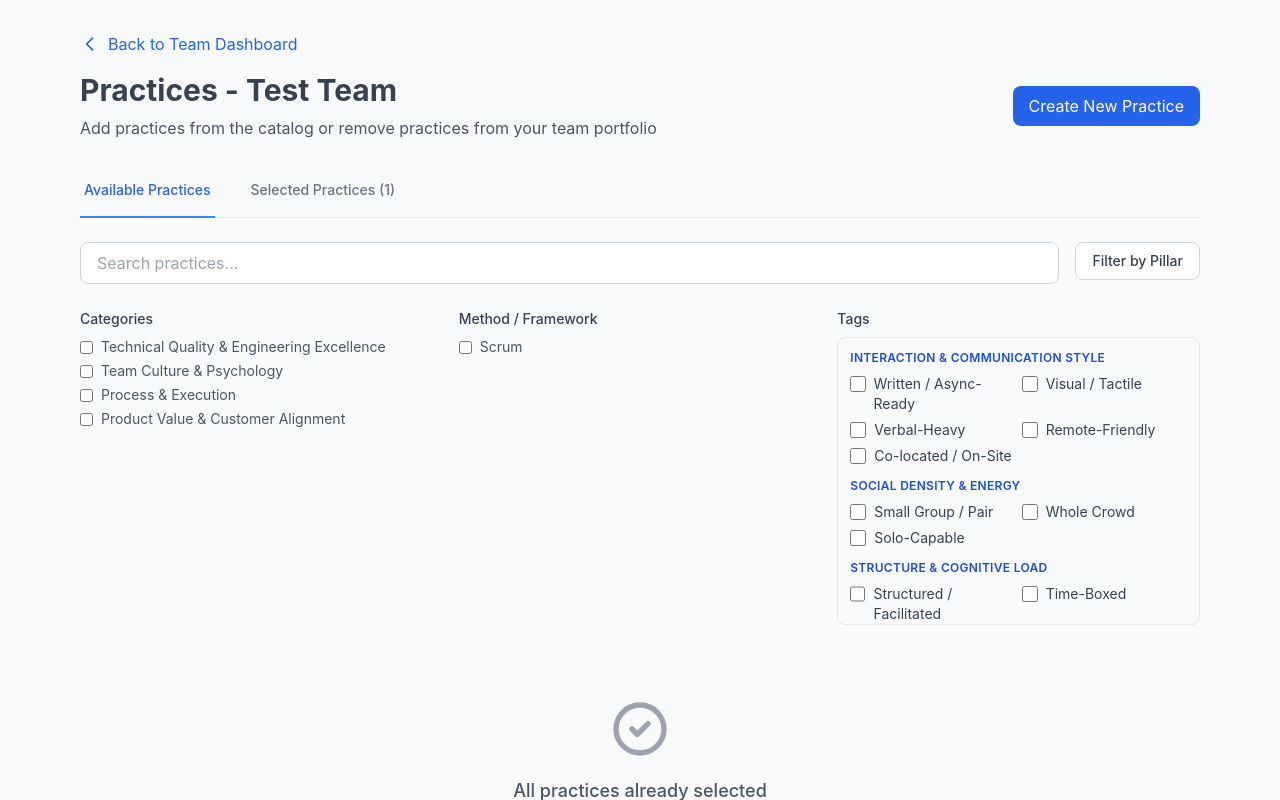
ManagePracticesView › confirms removal and shows gap suggestions
What coordinates should you click on to do the following:
click the button "Selected Practices (1)"
I would click on:
 (323, 191)
Its box is [246, 164, 399, 218].
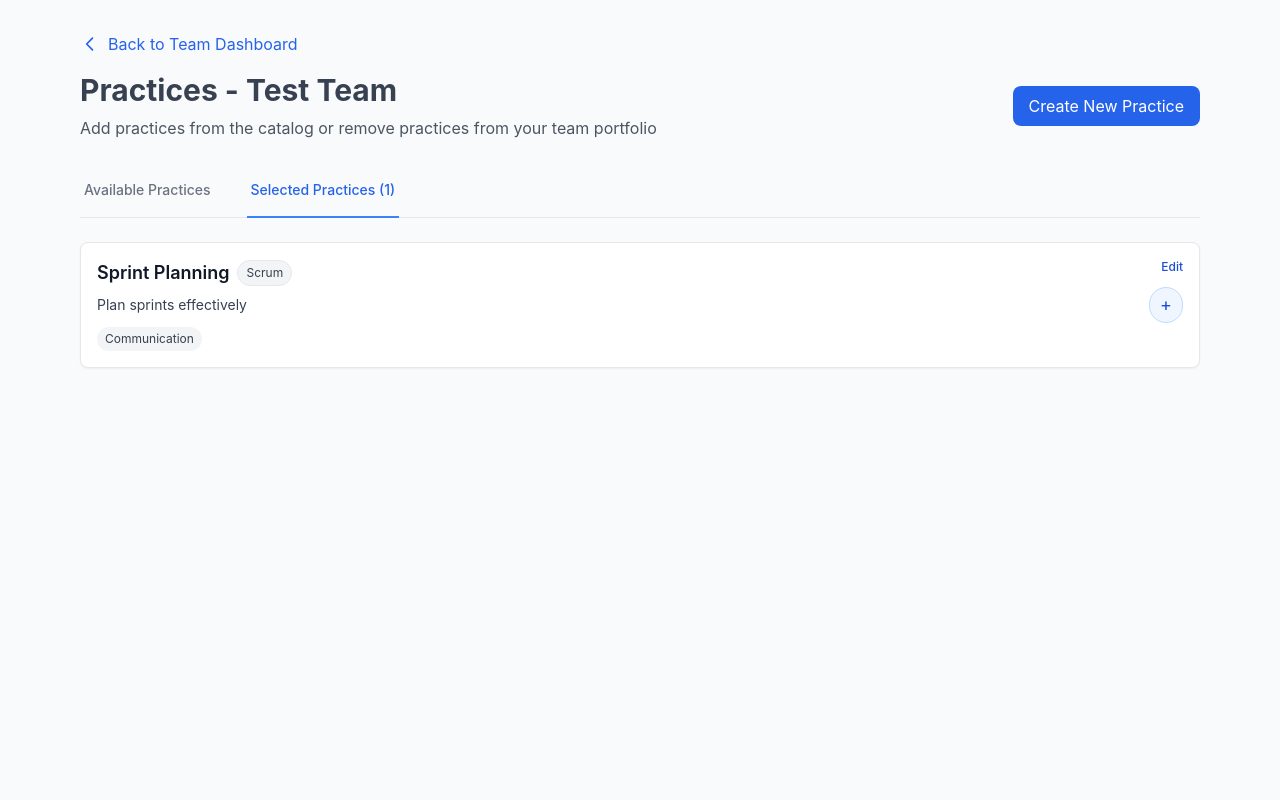
What coordinates should you click on to do the following:
click the button named "remove from team"
I would click on:
 (1166, 305)
Its box is [1149, 287, 1183, 323].
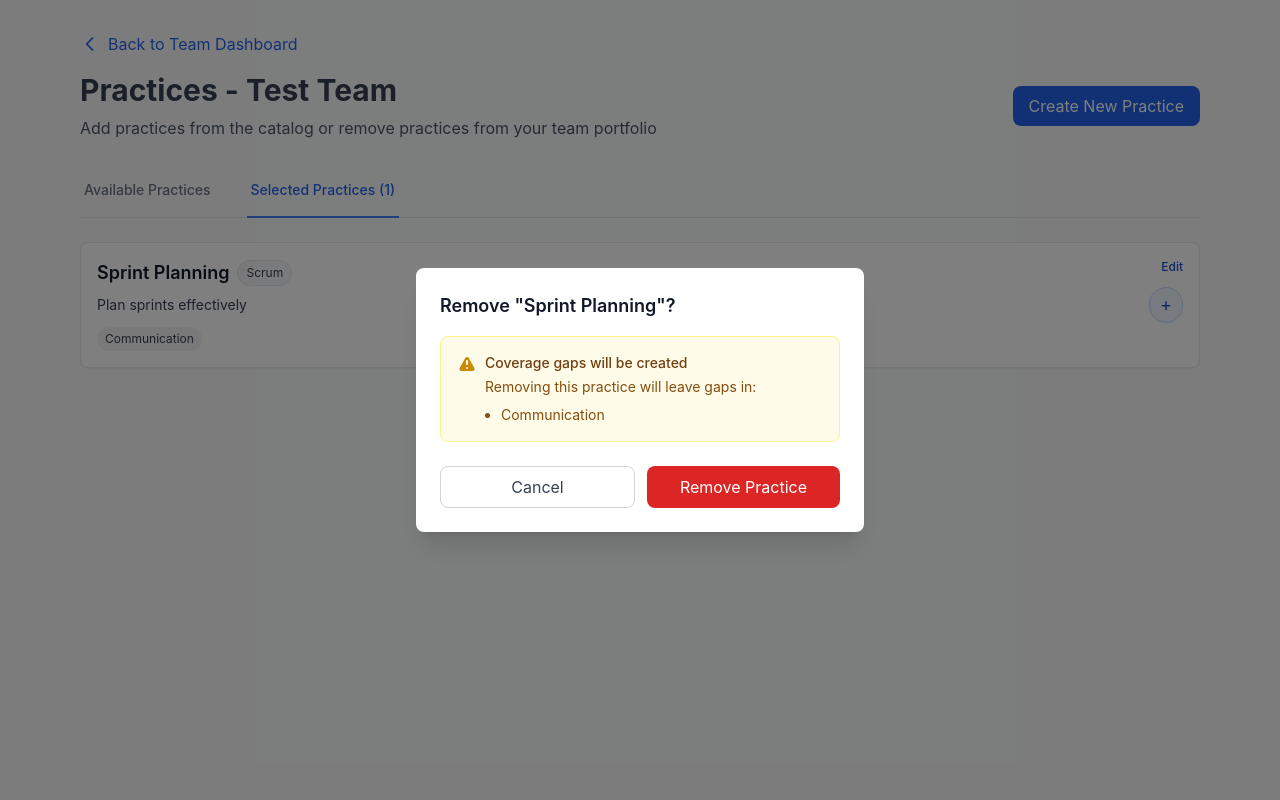
What coordinates should you click on to do the following:
click the button "Remove Practice"
I would click on:
 (744, 487)
Its box is [647, 466, 840, 508].
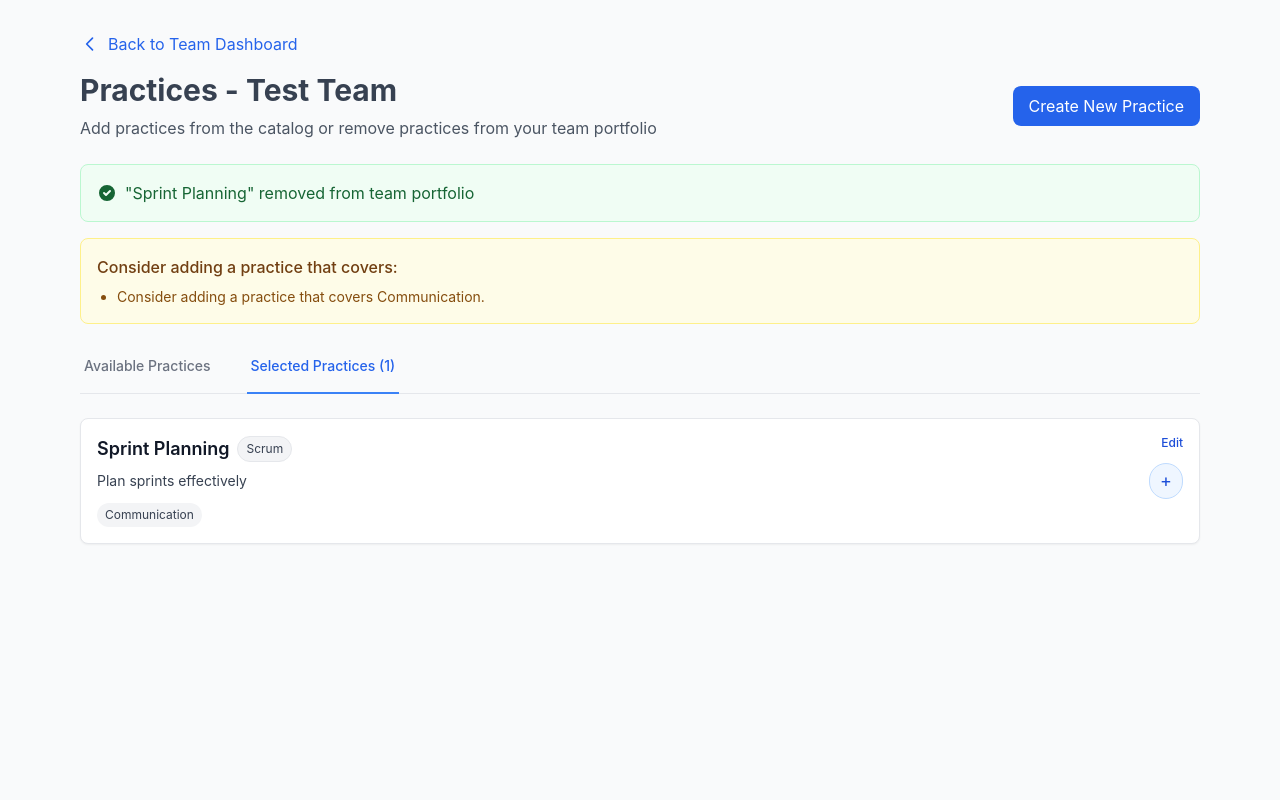
Now the text "Communication" is shown, box [97, 503, 202, 527]
Now the text "Consider adding a practice that covers:" is shown, box [97, 257, 398, 277]
